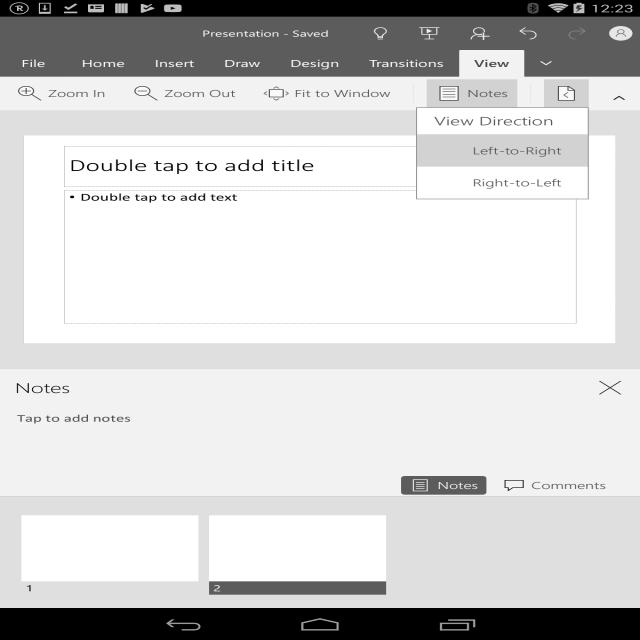Button: (254, 80, 400, 108), (124, 80, 245, 108), (8, 80, 115, 108), (580, 377, 640, 398), (525, 50, 568, 77), (361, 21, 401, 46), (410, 21, 450, 46), (508, 21, 548, 46), (557, 21, 597, 46), (599, 81, 636, 106)
ImageView: (609, 26, 633, 41)
TextView: (417, 108, 571, 134), (196, 23, 335, 44), (354, 50, 459, 77), (275, 50, 354, 77), (66, 50, 140, 77), (140, 50, 209, 77), (0, 50, 67, 77), (209, 50, 275, 77), (459, 50, 524, 77), (0, 377, 70, 398), (544, 80, 589, 108), (0, 110, 640, 111), (0, 368, 640, 369), (417, 134, 588, 135), (21, 582, 33, 594), (209, 582, 221, 594), (413, 84, 414, 104), (530, 84, 531, 104)
